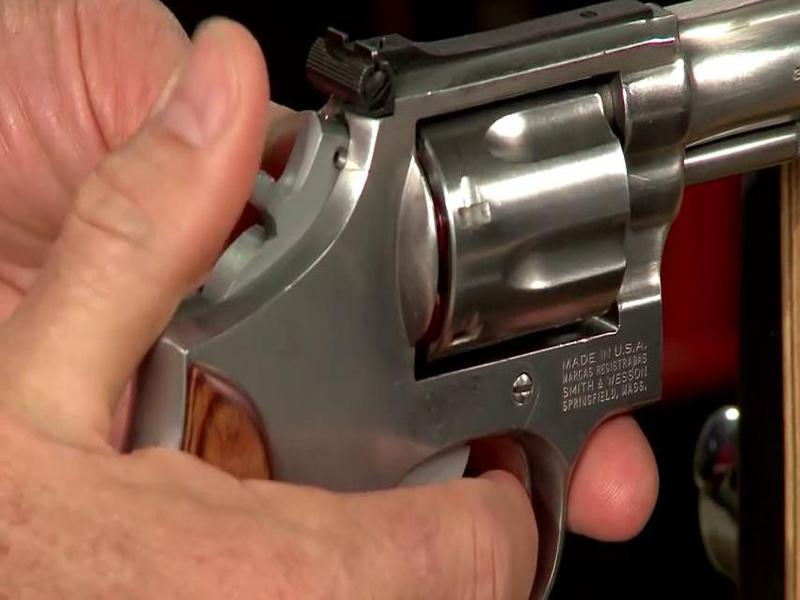Revolver: (71, 1, 800, 523)
